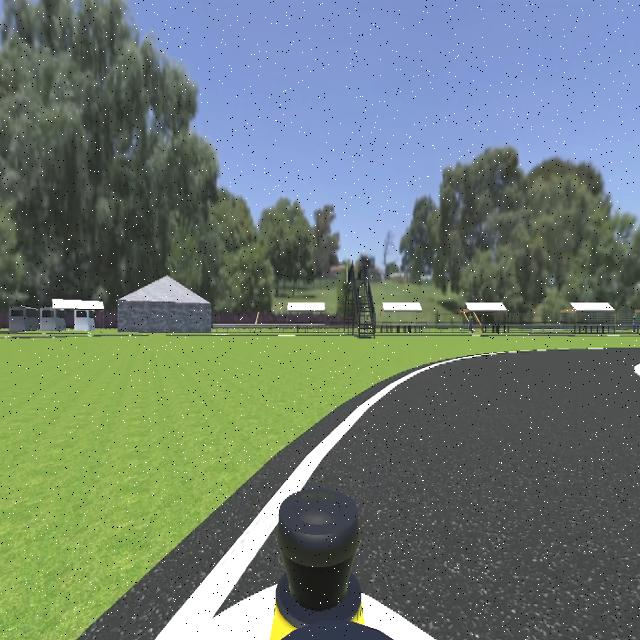road: (312, 351, 640, 640), (216, 530, 286, 615)
solid_line: (154, 355, 482, 640), (634, 364, 640, 378)
